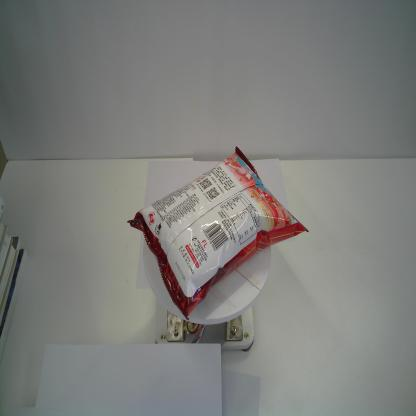Puffed Food: (127, 146, 310, 320)
